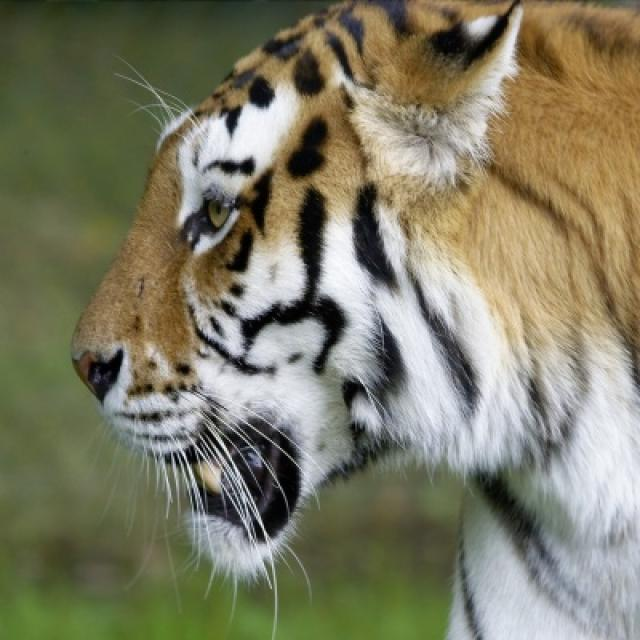Tiger: (63, 3, 638, 635)
